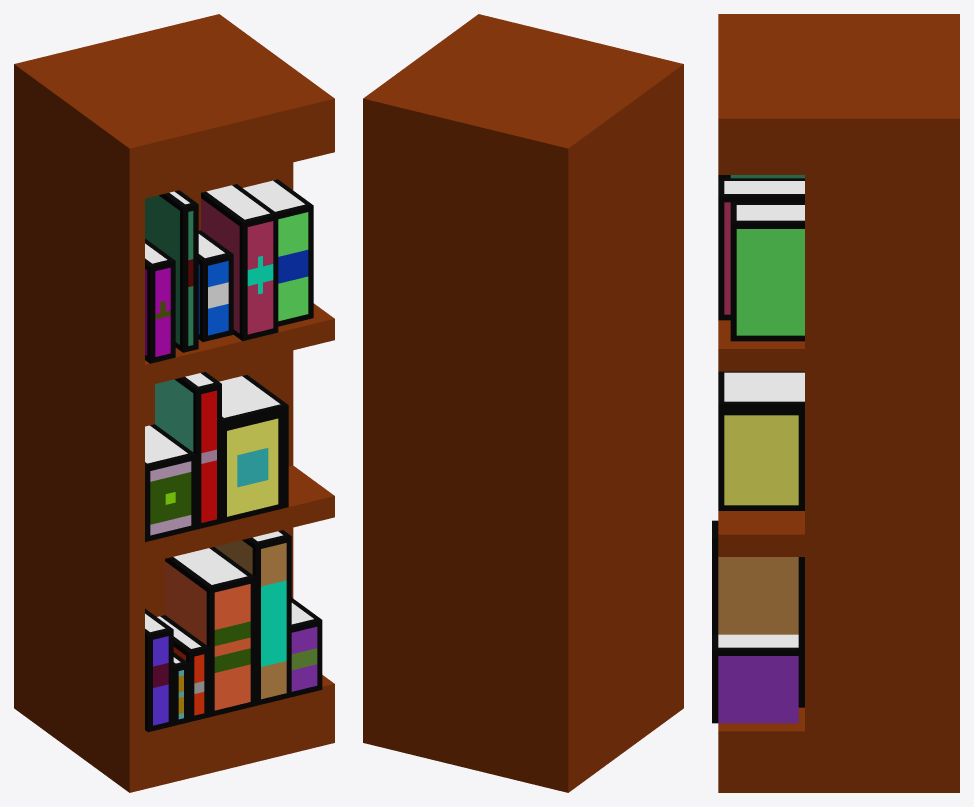
File: RightOpen2.obj
3 views of the same model, side by side, from view 1: azimuth 30°, elevation 25°; view 2: azimuth 150°, elevation 25°; view 3: azimuth 270°, elevation 25° (orthographic). The views are drawn at different scales.
Bounding box in the file's own units: 4 × 12 × 4.
1 material, 1 textured.
